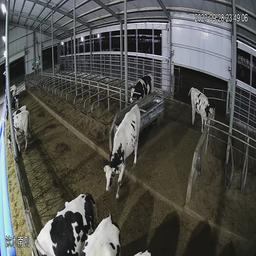cow: (87, 115, 141, 215), (35, 184, 91, 254), (79, 219, 129, 253), (4, 105, 36, 157), (186, 83, 216, 133), (128, 70, 157, 103), (4, 85, 20, 106)
